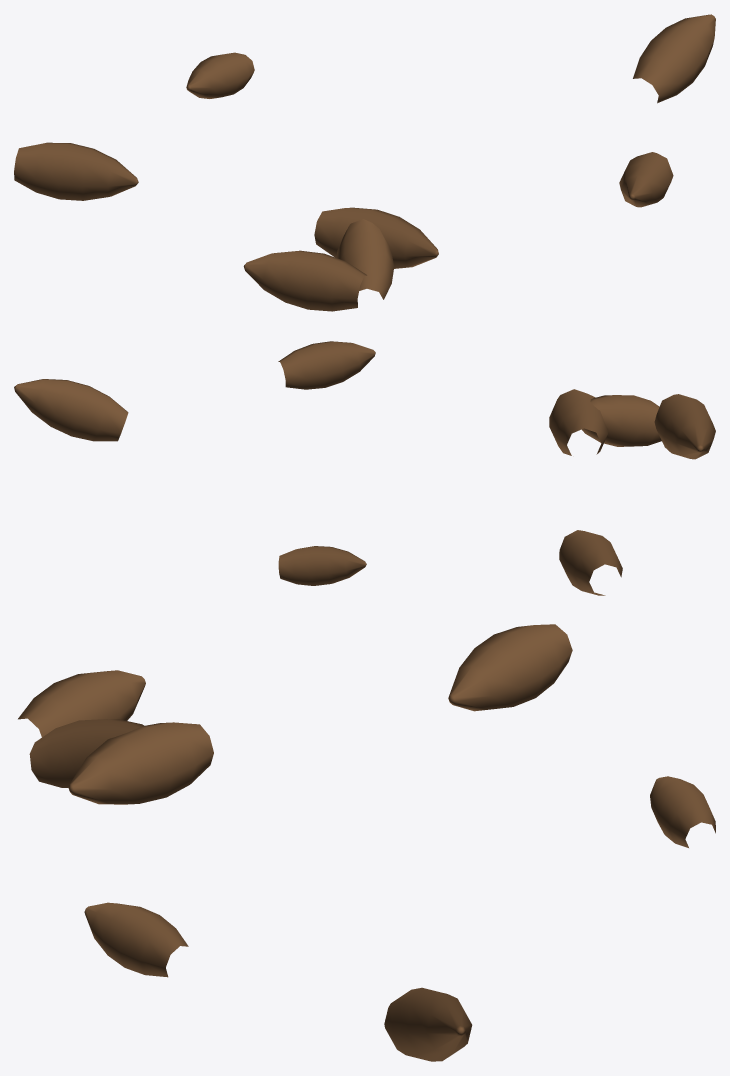
Rendered from pinecones-spruce-a.lod1.glb.
3 views of the same model, one above another, from view 1: azimuth 30°, elevation 25°; view 2: azimuth 150°, elevation 25°; view 3: azimuth 270°, elevation 25° (orthographic). The views are drawn at different scales.
Size of the model in its own units: 0.7733 by 0.0703 by 0.5564.
